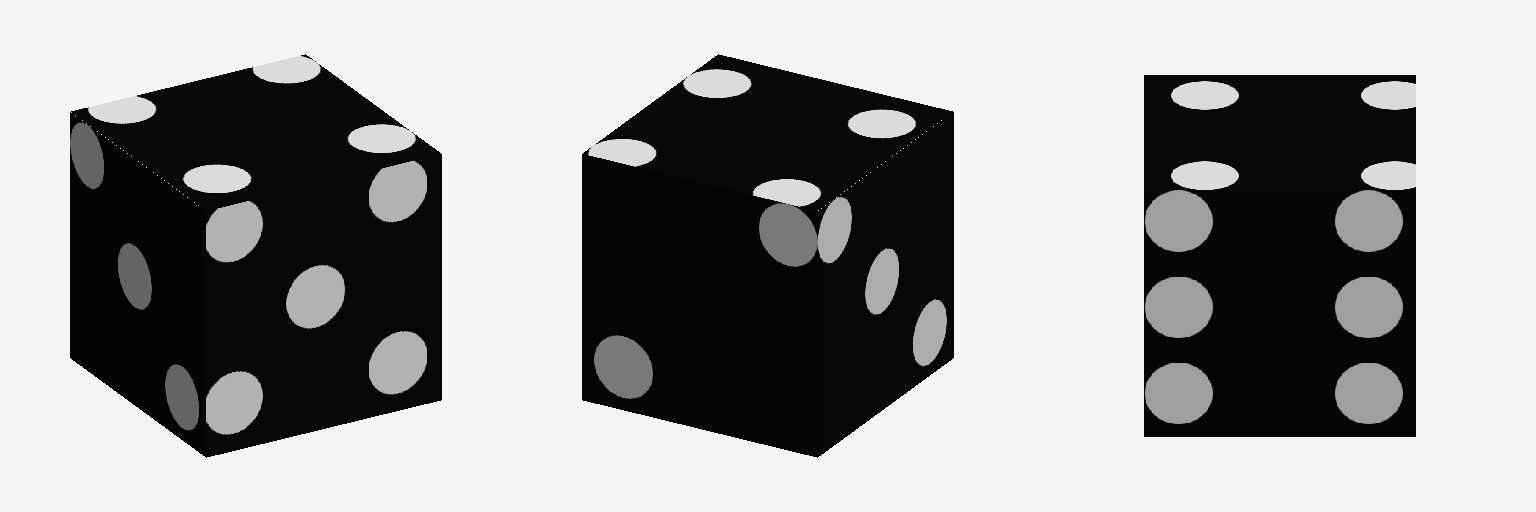
3 views of the same model, side by side, from view 1: azimuth 30°, elevation 25°; view 2: azimuth 150°, elevation 25°; view 3: azimuth 270°, elevation 25° (orthographic).
Parts seen in each view (by area): view 1: Cube; view 2: Cube; view 3: Cube.
Boxes of the visible parts, x1=… form: Cube: x1=70, y1=54, x2=441, y2=457; Cube: x1=582, y1=54, x2=953, y2=457; Cube: x1=1144, y1=75, x2=1415, y2=436.
Bounding box in the file's own units: 2 × 2 × 2.
Materials: 1 (1 with a texture image).